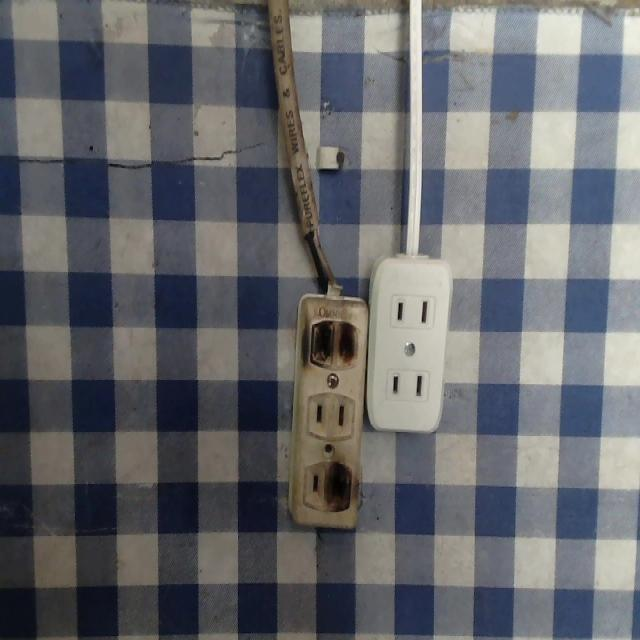-: (307, 315, 361, 373), (323, 459, 352, 512)
